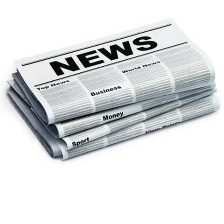news_paper: (2, 13, 223, 164)
